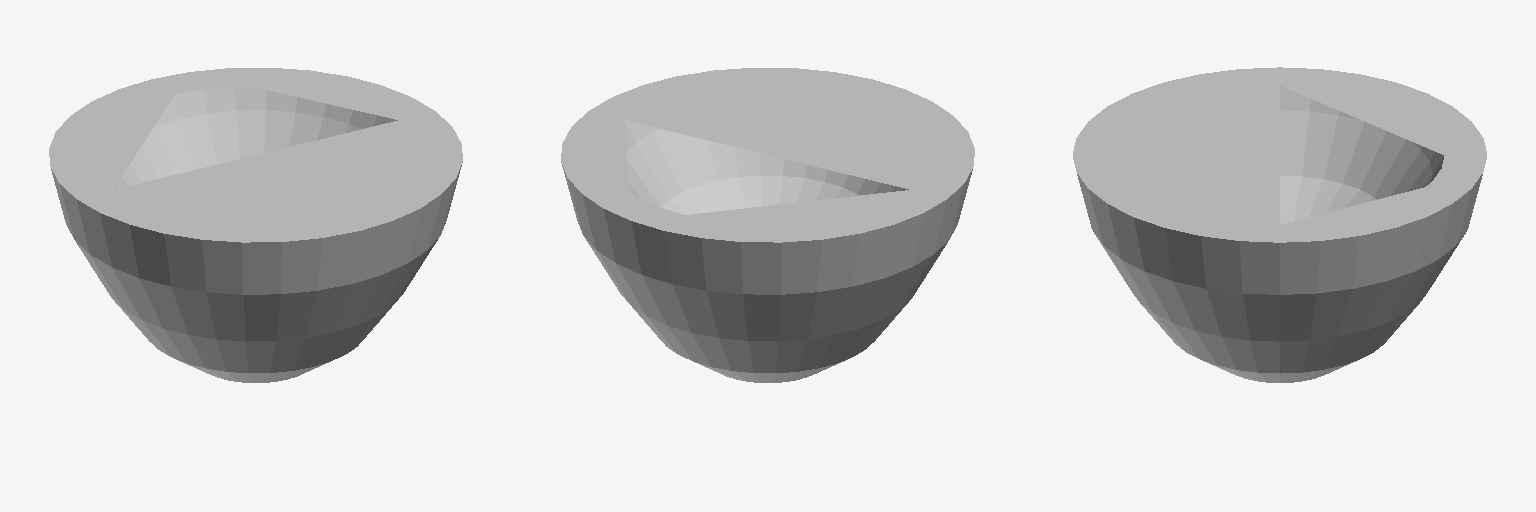
The model's file is bowl.obj.
3 renders of one model, left to right at view 1: azimuth 30°, elevation 25°; view 2: azimuth 150°, elevation 25°; view 3: azimuth 270°, elevation 25°, orthographic.
Parts seen in each view (by area): view 1: Cylinder.001; view 2: Cylinder.001; view 3: Cylinder.001.
Boxes of the visible parts, x1,y1,x2,y2 form: Cylinder.001: [49, 68, 462, 382]; Cylinder.001: [561, 68, 974, 382]; Cylinder.001: [1073, 67, 1486, 382].
Size of the model in its own units: 1.49 by 0.7988 by 1.49.